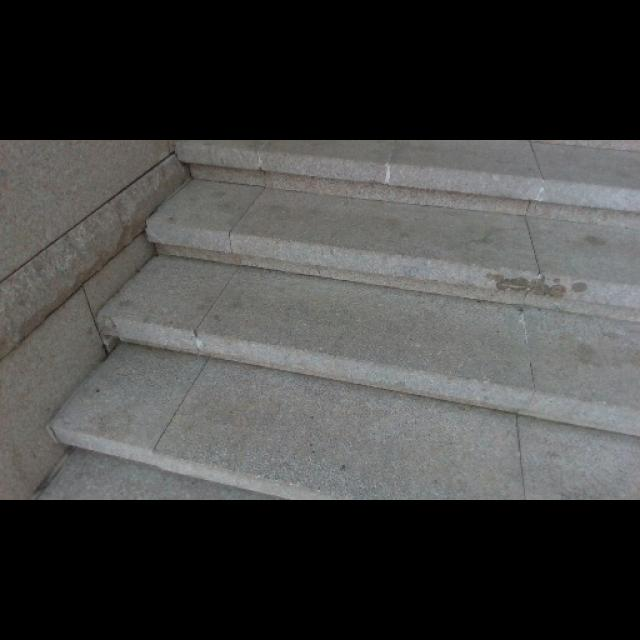Stairs: (31, 141, 639, 500)
